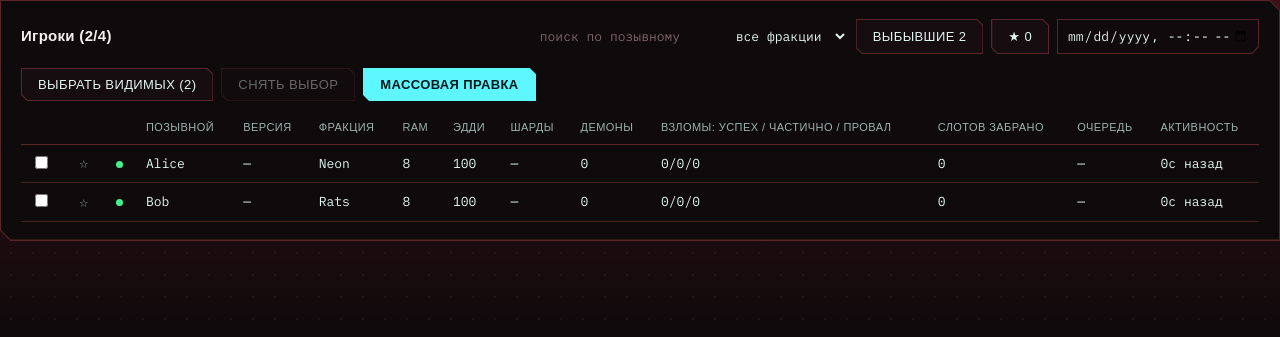
PlayersScreen › сброшенные и заменённые сессии скрыты, «выбывшие N» их показывает с пометками
Expected: the text "Alice" is shown, [136, 144, 233, 182]
Expected: the text "Old" is not shown
Click the button "выбывшие 2" at [920, 36], box [856, 19, 983, 54]
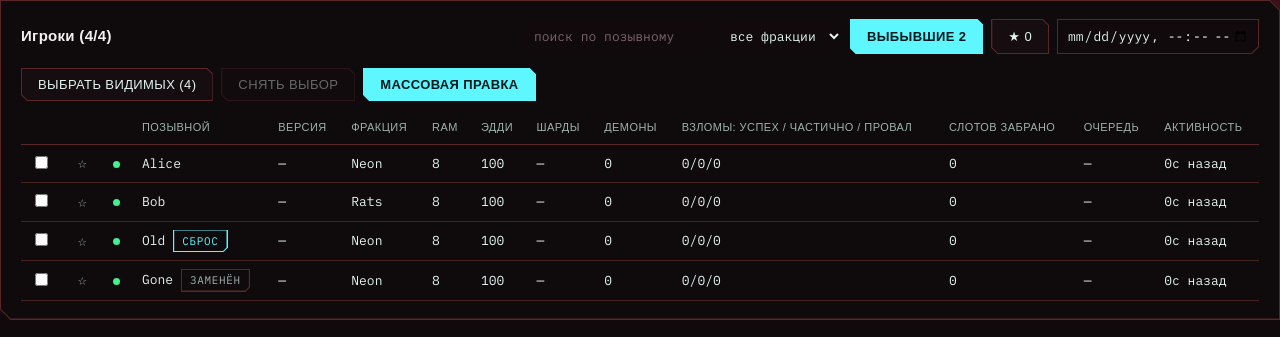
Now the text "Old" is shown, box [142, 232, 165, 248]
Now the text "Gone" is shown, box [142, 271, 173, 288]
Now the text "сброс" is shown, box [173, 230, 228, 252]
